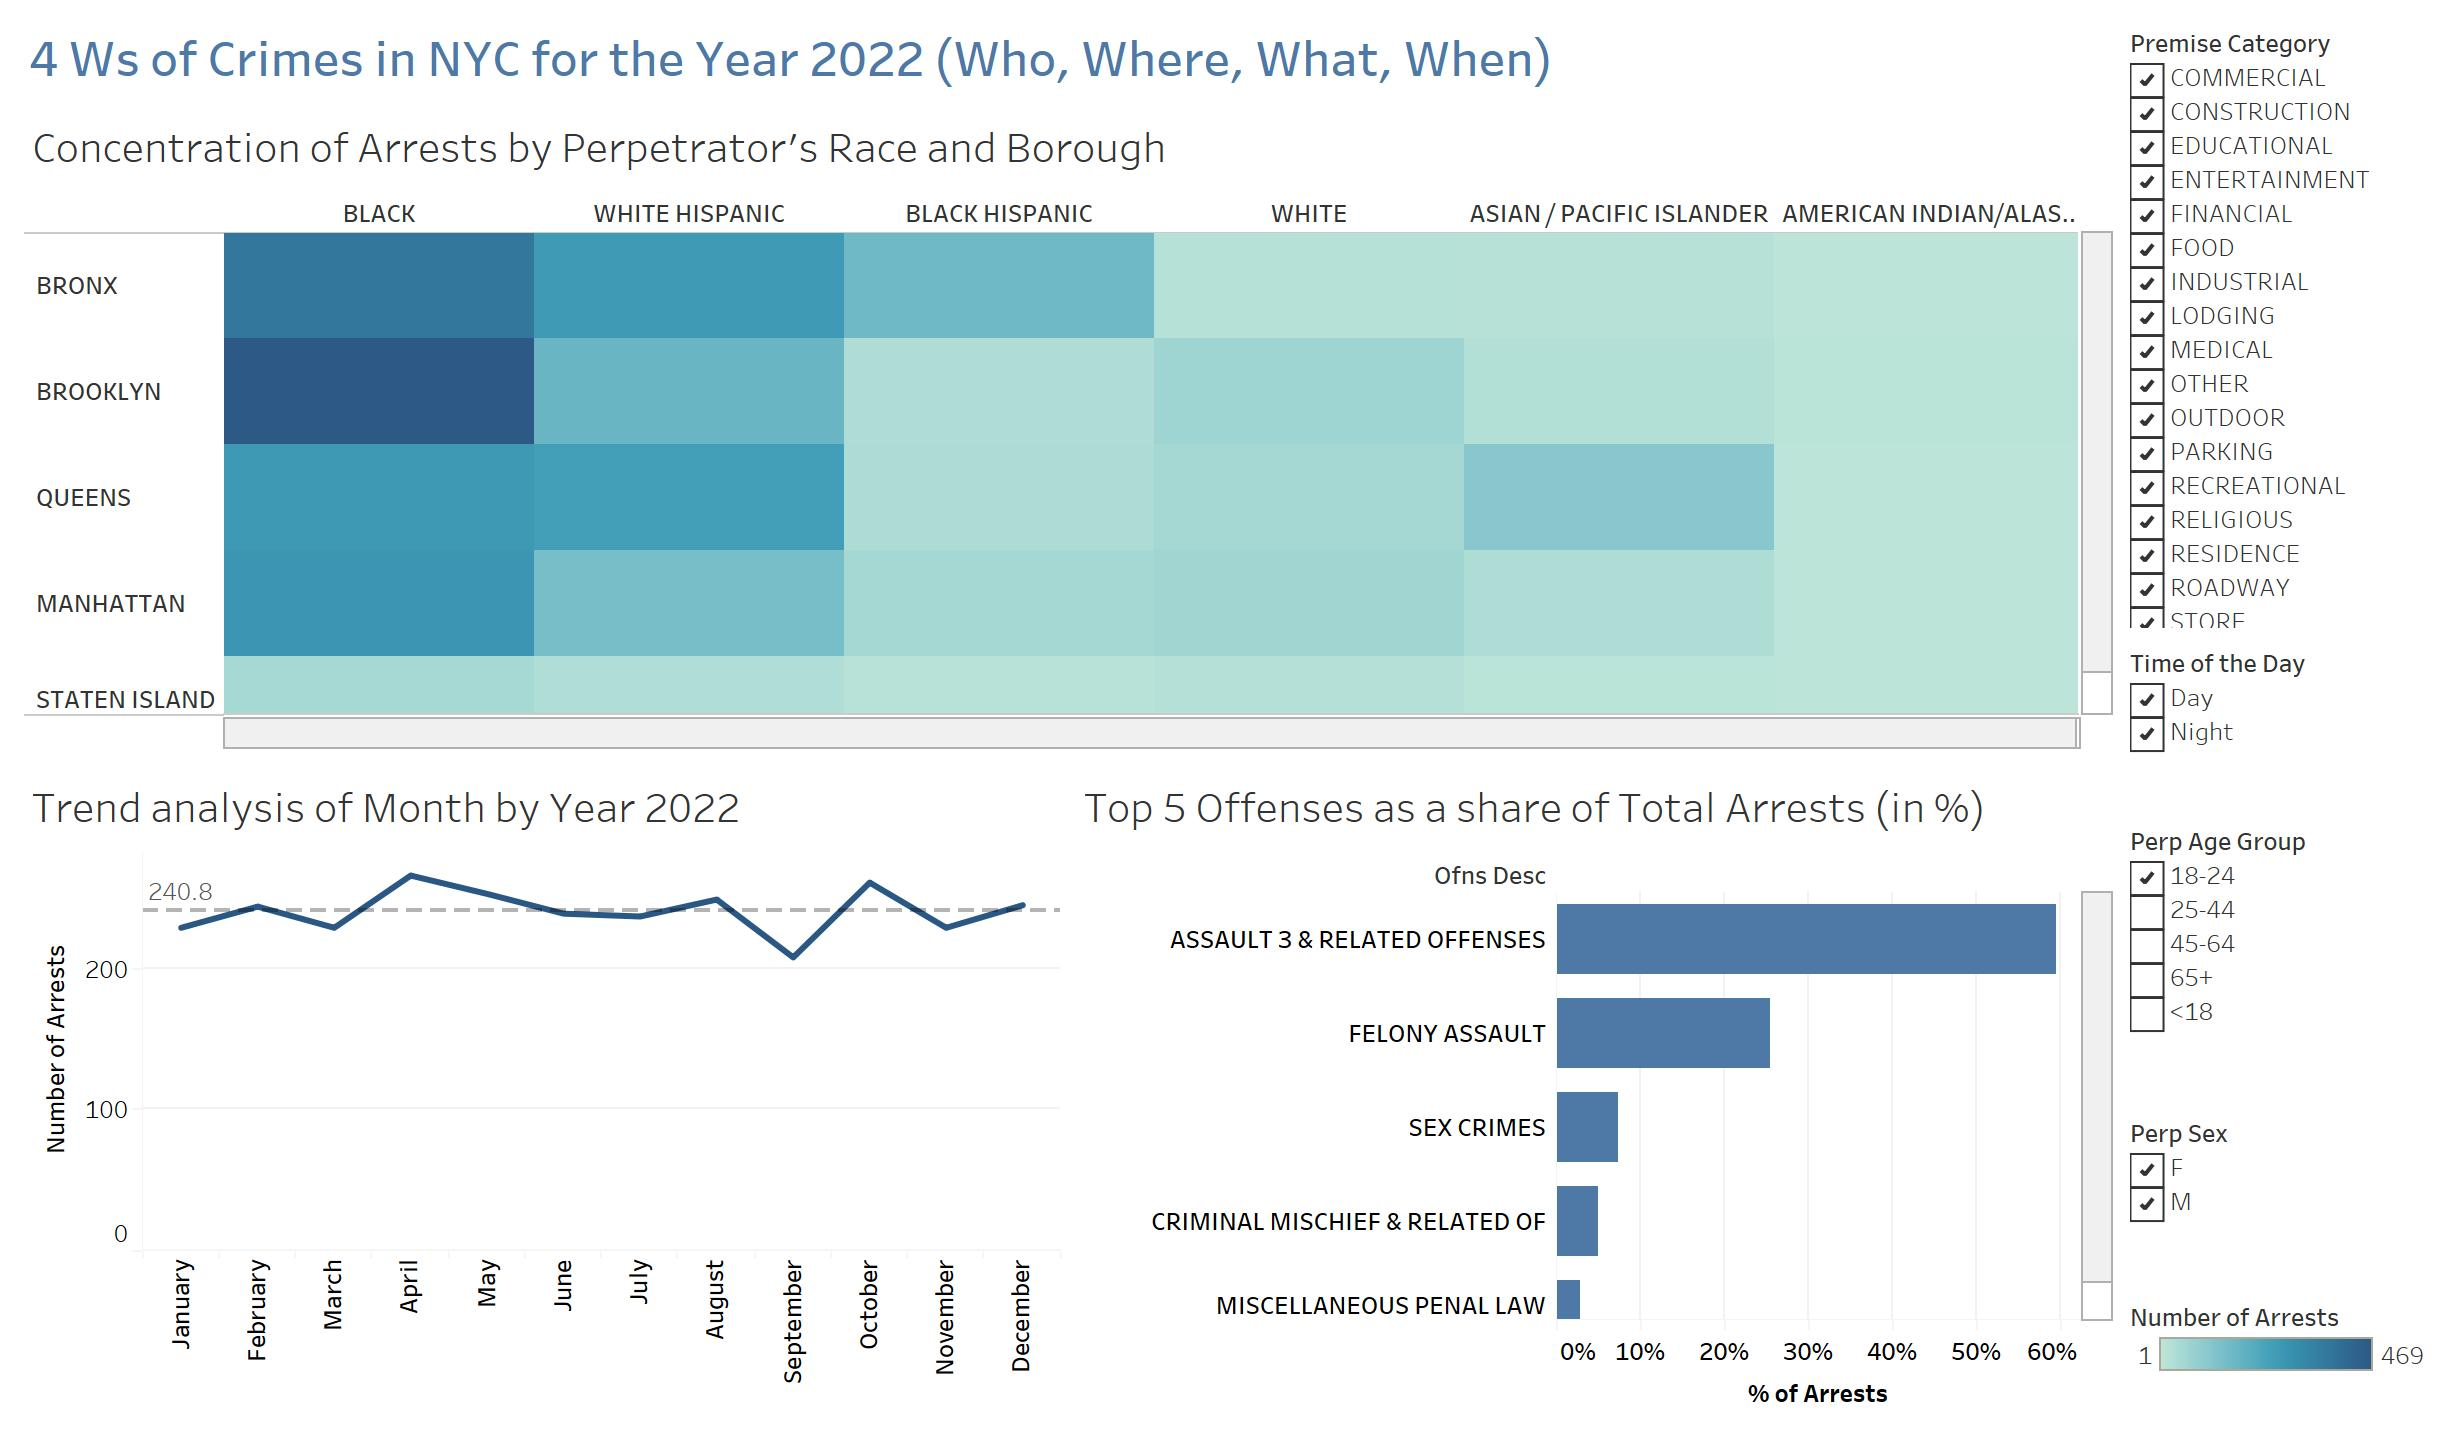

This screenshot's page, from the dashboard's own definition file:
{"tool":"tableau","page":{"name":"Dashboard 1","canvas":[1000,1000],"units":"permille","ordinal":0},"visuals":[{"type":"title","box":[6.5,11.2,856.8,57.3]},{"type":"filter","title":"Sheet 1","param":"[federated.1uaa87y0alt10f1caw00l0gi7who].[none:PREMISE_CATEGORY:nk]","box":[863.3,11.2,130.2,434.4]},{"type":"worksheet","title":"Sheet 1","mark":"Automatic","rows":["ARREST_BORO"],"cols":["PERP_RACE"],"box":[6.5,68.4,856.8,460.2]},{"type":"filter","title":"Sheet 1","param":"[federated.1uaa87y0alt10f1caw00l0gi7who].[none:Calculation_3592746637972099073:n","box":[863.3,445.5,130.2,124.3]},{"type":"worksheet","title":"Sheet 2","mark":"Automatic","rows":["datadiscoveryg1.csv_BE271B2FDEF4421B8A80113A9B1AC303"],"cols":["ARREST_DATE"],"box":[6.5,528.6,428.2,460.2]},{"type":"worksheet","title":"Sheet 3","mark":"Bar","rows":["OFNS_DESC"],"cols":["datadiscoveryg1.csv_BE271B2FDEF4421B8A80113A9B1AC303"],"box":[434.7,528.6,428.6,460.2]},{"type":"filter","title":"Sheet 1","param":"[federated.1uaa87y0alt10f1caw00l0gi7who].[none:PERP_AGE_GROUP:nk]","box":[863.3,569.8,130.2,203.9]},{"type":"filter","title":"Sheet 1","param":"[federated.1uaa87y0alt10f1caw00l0gi7who].[none:PERP_SEX:nk]","box":[863.3,773.8,130.2,124.3]},{"type":"legend","title":"Sheet 1","param":"[federated.1uaa87y0alt10f1caw00l0gi7who].[__tableau_internal_object_id__].[cnt:d","box":[863.3,898.1,130.2,90.8]}]}

Visuals, with their boxes on the dashboard's canvas, which has no fixed pixel size, in thousandths of its width and height (x1, y1, x2, y2). These are canvas units, not pixel positions in the 2458x1432 screenshot, which may show the page scaled, cropped or inside an application window:
title: 6, 11, 863, 68
"Sheet 1" filter: 863, 11, 994, 446
"Sheet 1" worksheet: 6, 68, 863, 529
"Sheet 1" filter: 863, 446, 994, 570
"Sheet 2" worksheet: 6, 529, 435, 989
"Sheet 3" worksheet (Bar marks): 435, 529, 863, 989
"Sheet 1" filter: 863, 570, 994, 774
"Sheet 1" filter: 863, 774, 994, 898
"Sheet 1" legend: 863, 898, 994, 989
